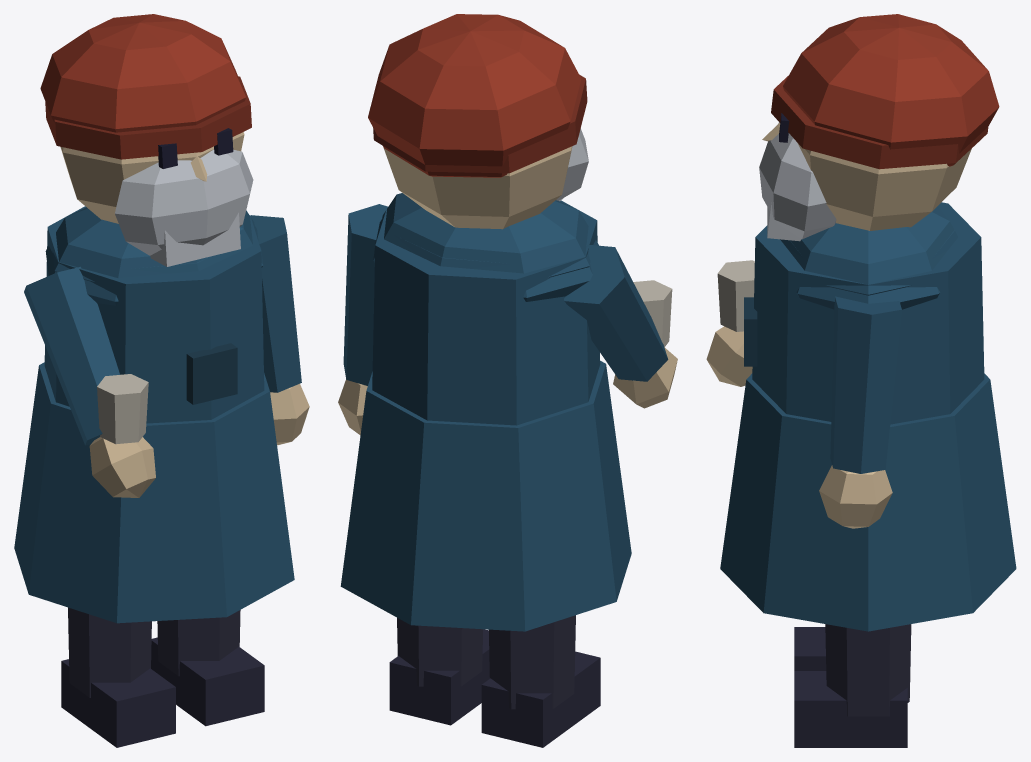
The model's file is yard_smock.glb.
The picture shows the model from 3 angles, left to right: view 1: azimuth 30°, elevation 25°; view 2: azimuth 150°, elevation 25°; view 3: azimuth 270°, elevation 25°; orthographic projection. The views are drawn at different scales.
Parts seen in each view (by area): view 1: Torso, Head, ArmR, LegR, LegL, ArmL; view 2: Torso, Head, LegR, ArmR, LegL, ArmL; view 3: Torso, Head, ArmL, LegL, ArmR, LegR.
Boxes of the visible parts, bbox=[...] form: Torso: bbox=[14, 206, 294, 623]; Head: bbox=[40, 14, 253, 266]; ArmR: bbox=[24, 266, 155, 497]; LegR: bbox=[61, 607, 175, 747]; LegL: bbox=[151, 610, 264, 726]; ArmL: bbox=[250, 215, 309, 445]; Torso: bbox=[340, 193, 631, 631]; Head: bbox=[368, 14, 588, 229]; LegR: bbox=[481, 615, 600, 747]; ArmR: bbox=[564, 244, 677, 408]; LegL: bbox=[389, 618, 489, 725]; ArmL: bbox=[338, 204, 387, 435]; Torso: bbox=[720, 202, 1016, 631]; Head: bbox=[759, 14, 999, 241]; ArmL: bbox=[819, 296, 901, 528]; LegL: bbox=[794, 624, 911, 747]; ArmR: bbox=[706, 260, 754, 386]; LegR: bbox=[794, 627, 826, 670].
Size of the model in its own units: 0.7214 by 1.7 by 0.6972.
